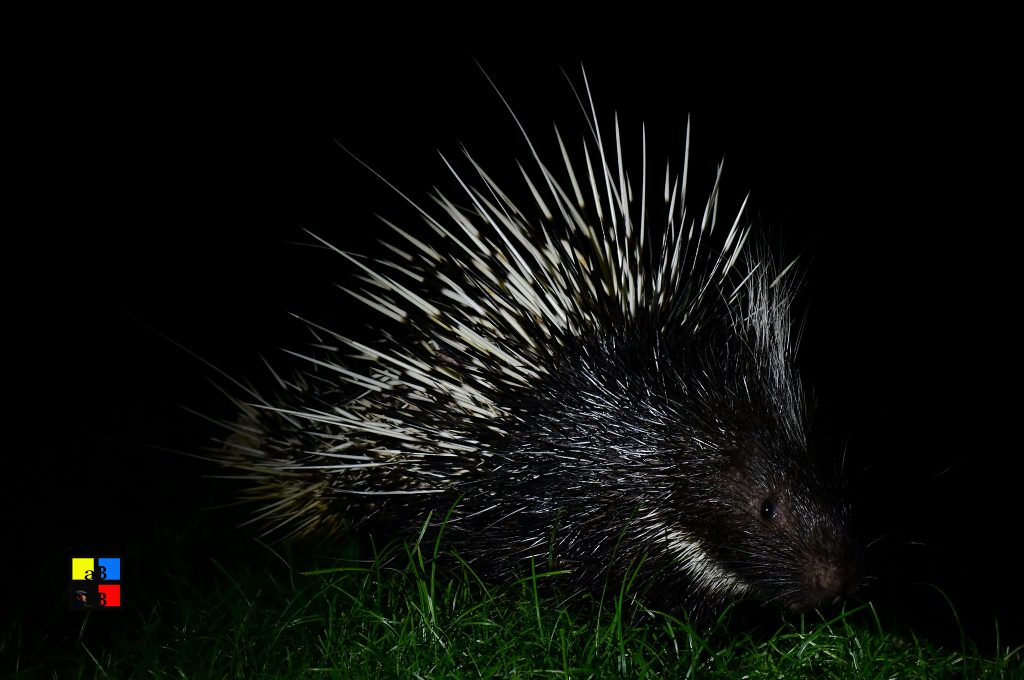porcupine: (219, 63, 881, 644)
